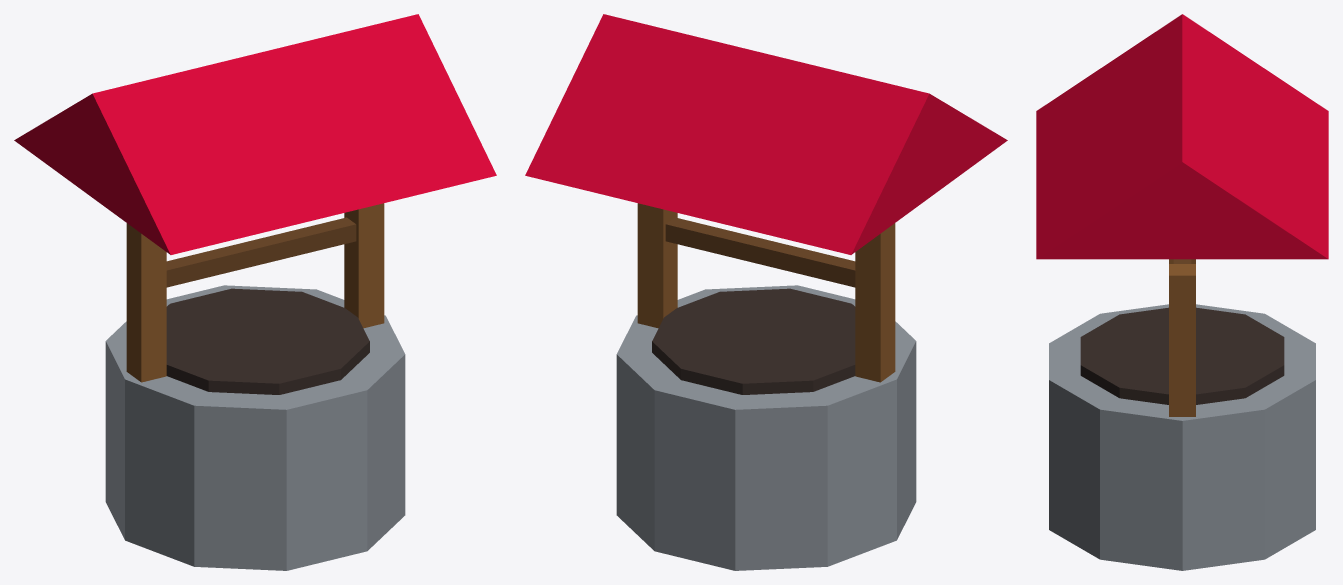
Rendered from well.glb.
The picture shows the model from 3 angles, left to right: view 1: azimuth 30°, elevation 25°; view 2: azimuth 150°, elevation 25°; view 3: azimuth 270°, elevation 25°; orthographic projection. The views are drawn at different scales.
Bounding box in the file's own units: 1.8 × 2.4 × 1.5.
